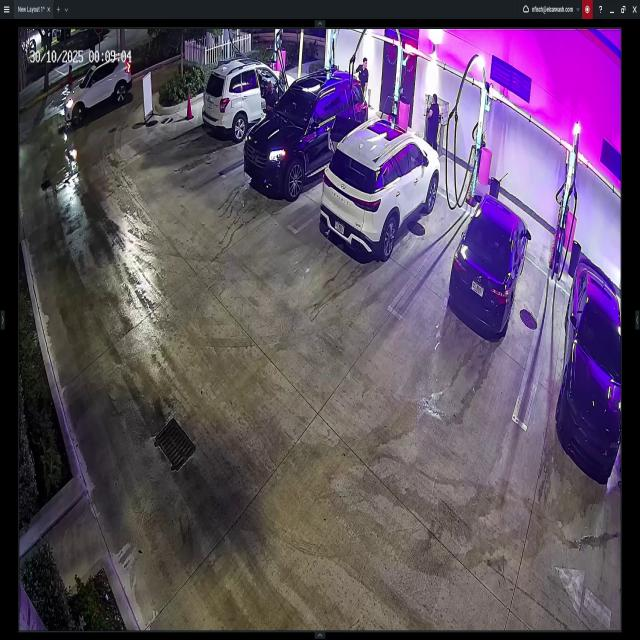Car: (322, 114, 438, 261), (244, 71, 370, 193), (555, 256, 621, 479), (449, 192, 530, 345), (202, 57, 296, 144), (64, 57, 133, 126), (244, 68, 246, 68)
